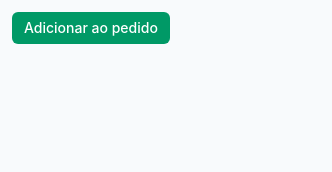
Scenario: AddToOrderButton › falha de rede vira mensagem amigável (sem quebrar a tela)
The width and height of the screenshot is (332, 172).
What coordinates should you click on to do the following:
click the button with aria-label "Adicionar CAM-01 ao pedido"
I would click on:
 (91, 28)
Its box is [12,12,170,44].
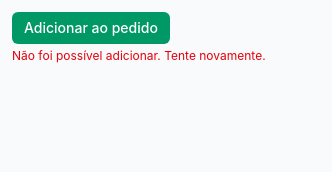
Check: the message reads "Não foi possível adicionar. Tente novamente.", box [12,48,266,63]
